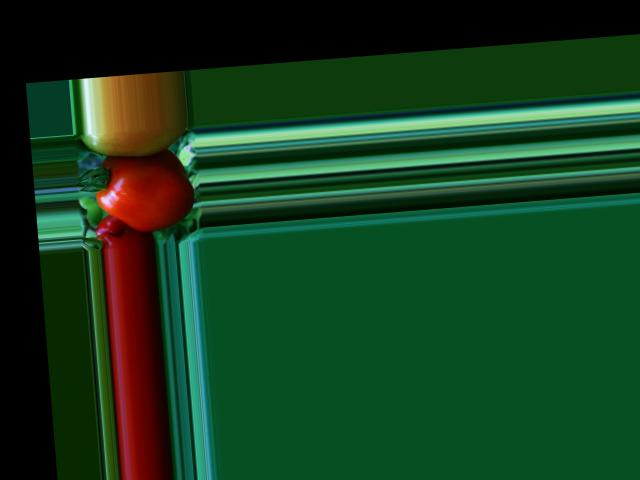tomato: (92, 150, 196, 235)
